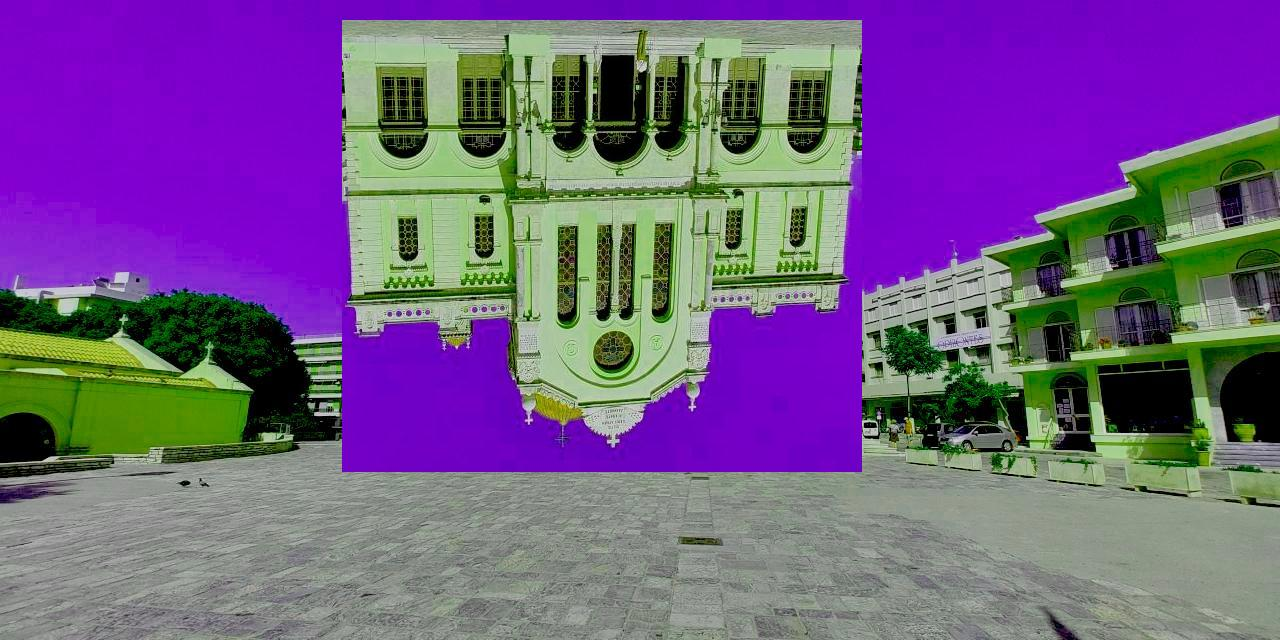Agios Minas: (343, 21, 863, 473)
